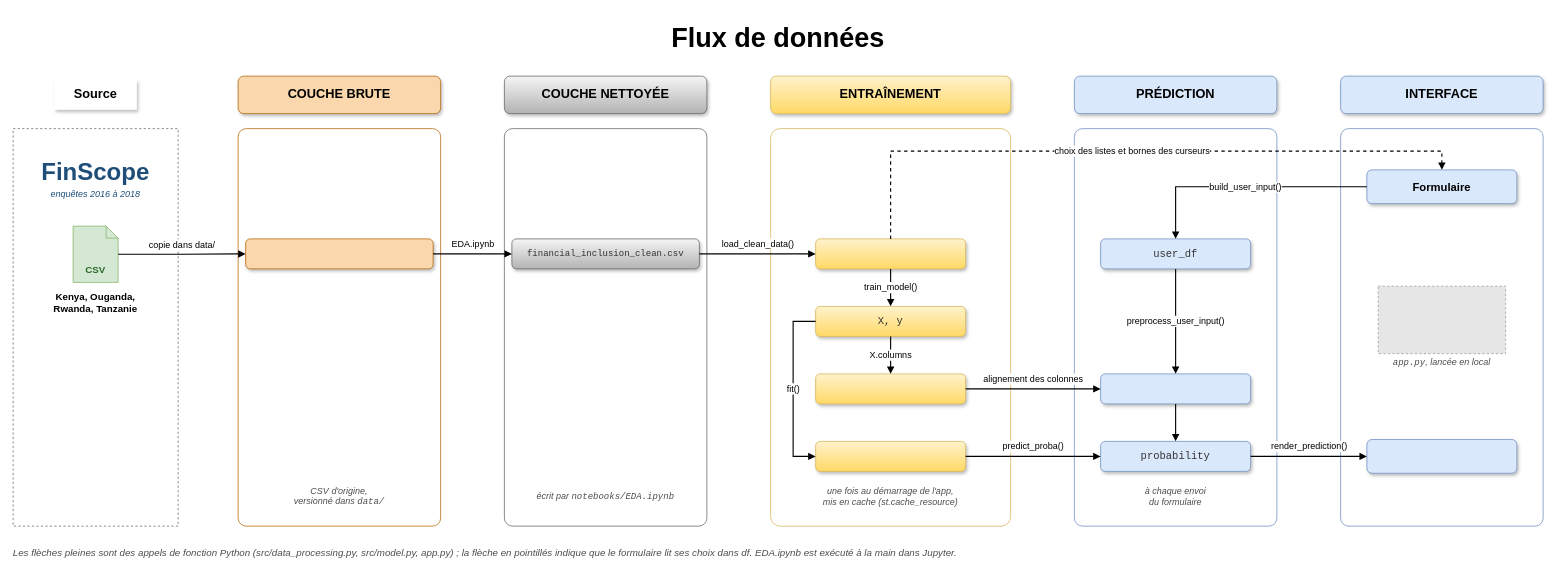
The diagram is 1561 pixels wide and 576 high, and some of its shapes have lost their labels. Grey dashed boxes stand in for pictures. The centre of each missing label's shape, as x and y in pixels:
"df" goes at (x=891, y=254).
"Financial_inclusion_dataset.csv" goes at (x=340, y=254).
"model" goes at (x=891, y=457).
"reference_columns" goes at (x=891, y=389).
"Résultat affiché" goes at (x=1442, y=457).
"user_encoded" goes at (x=1176, y=389).
